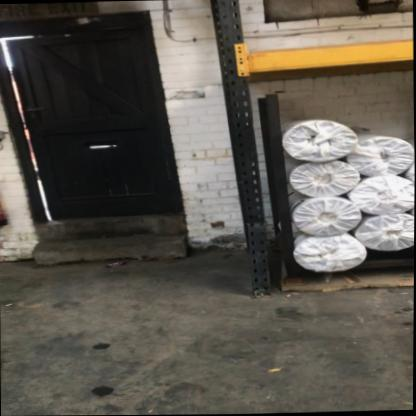vertical_damage: (239, 195, 270, 249)
